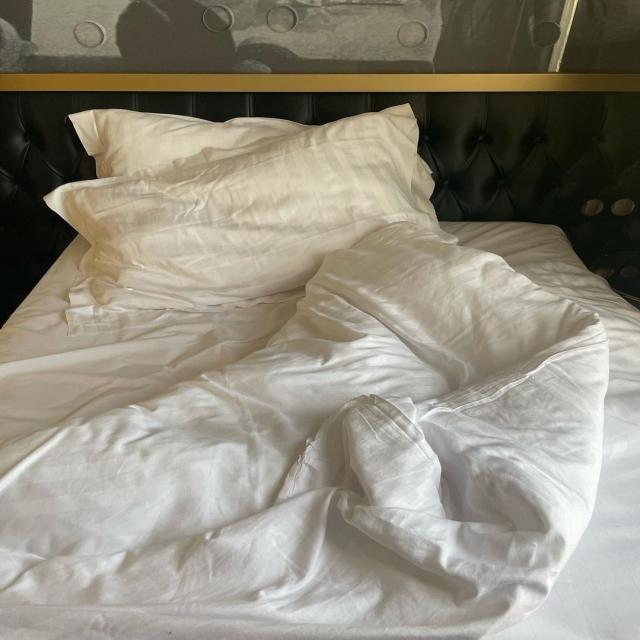bed: (0, 91, 640, 640)
